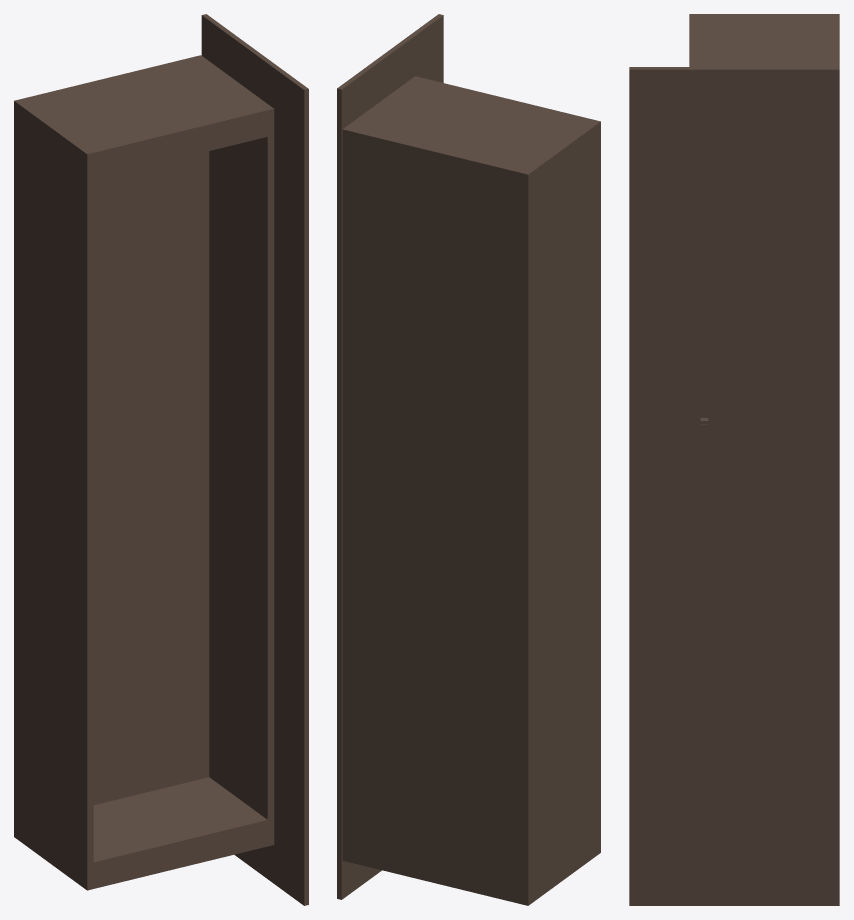
File: handle2_008.obj
3 views of the same model, side by side, from view 1: azimuth 30°, elevation 25°; view 2: azimuth 150°, elevation 25°; view 3: azimuth 270°, elevation 25° (orthographic). The views are drawn at different scales.
Size of the model in its own units: 32 by 123 by 28.
